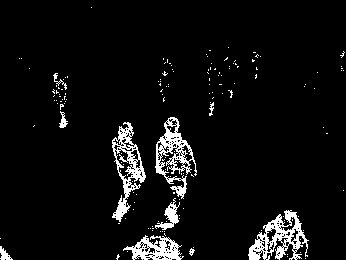person: (155, 116, 200, 220), (109, 120, 147, 223), (50, 71, 71, 130)
